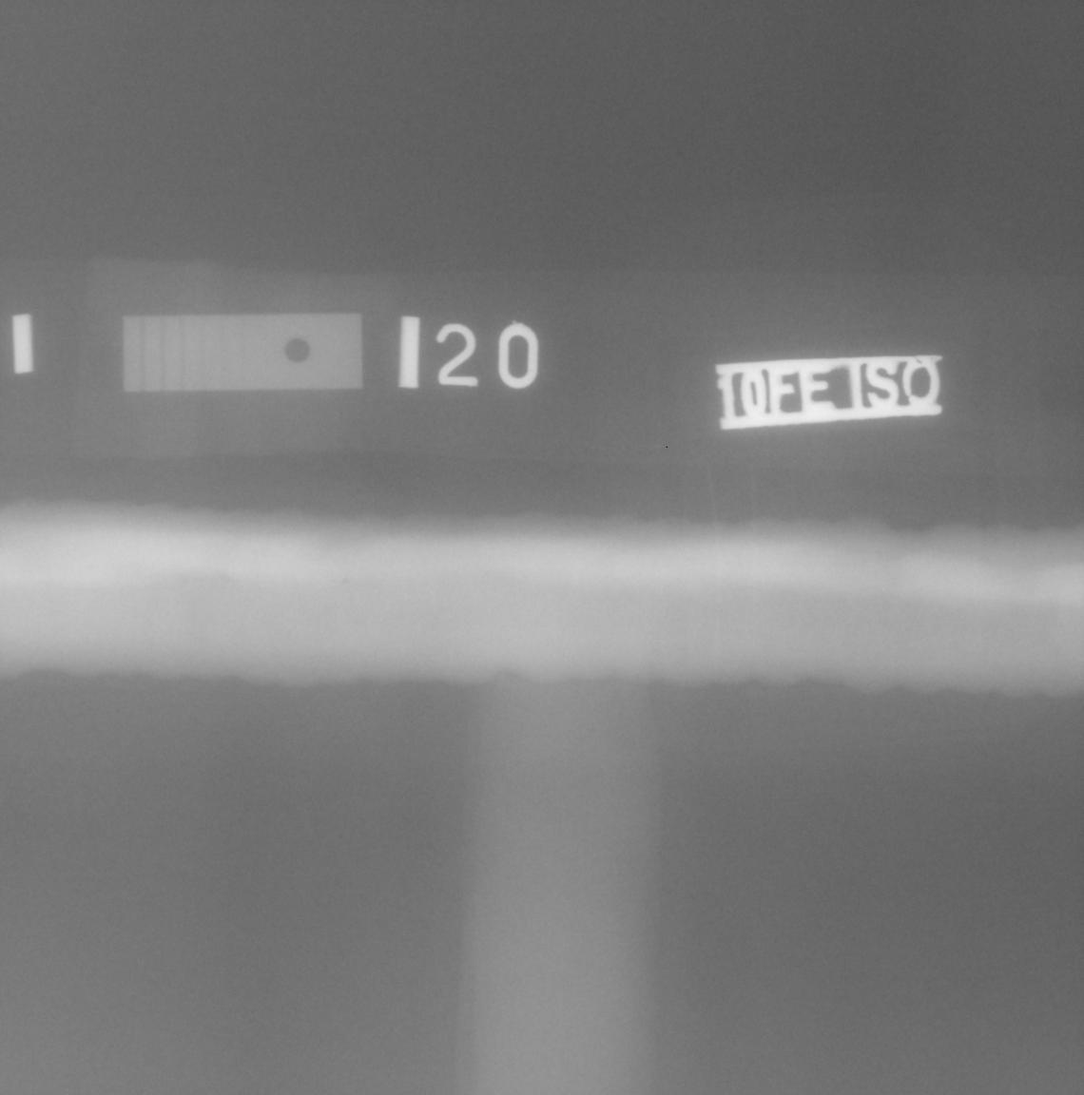Pore/Porosity: (341, 579, 347, 584)
Reference Standard 1: (123, 313, 363, 392)
